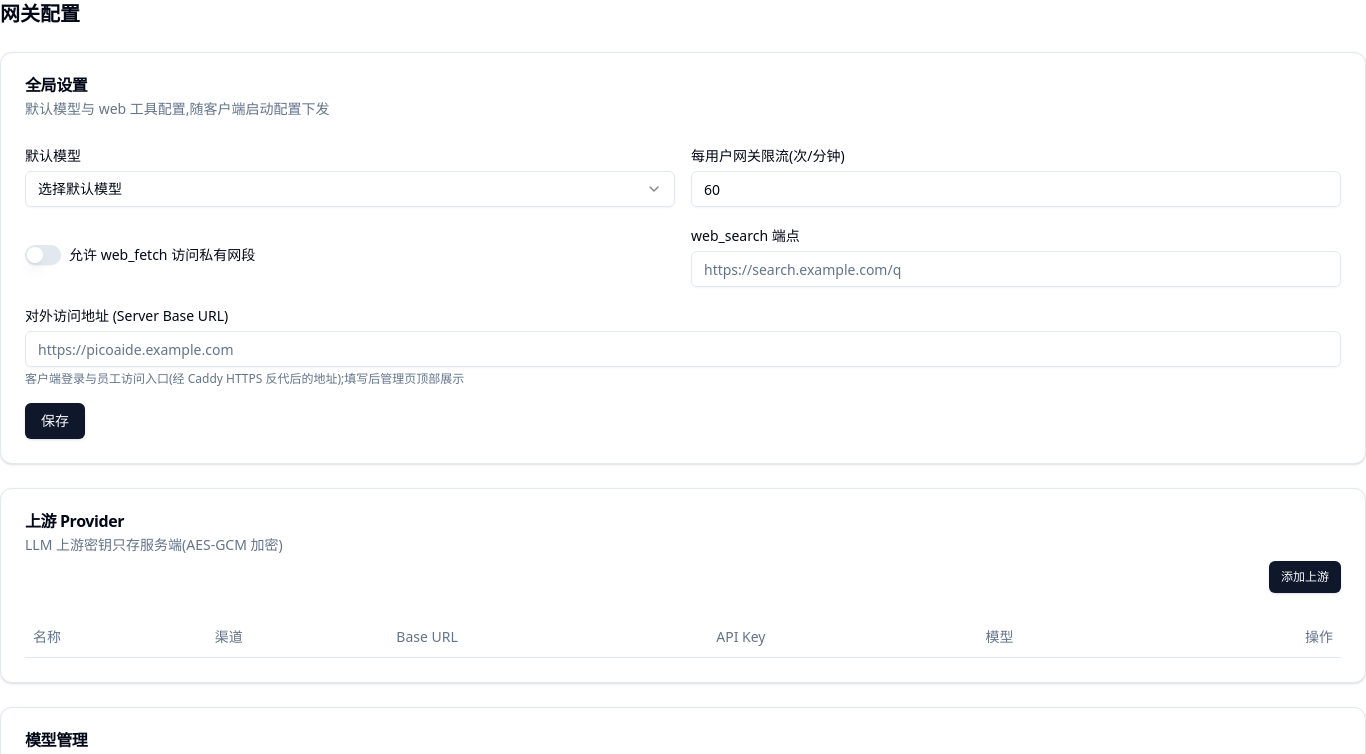
Test: Gateway 网关配置页 › 提交 sync.error 时提示可重试
Check: the text "全局设置" is shown, box [25,74,87,96]
Click the button "添加上游": click(1305, 577) [1269,561,1341,593]
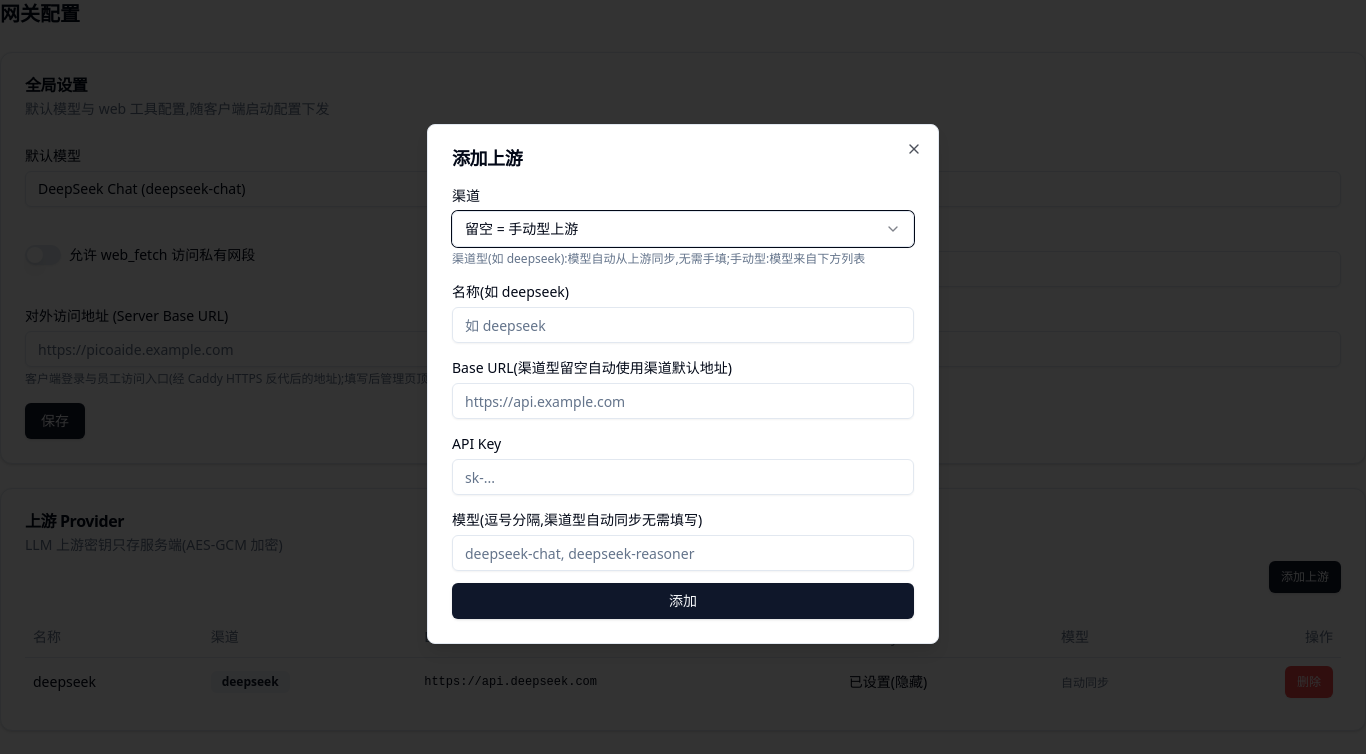
In the field with placeholder "如 deepseek": (683, 325) [452,307,914,343], type "deepseek2"
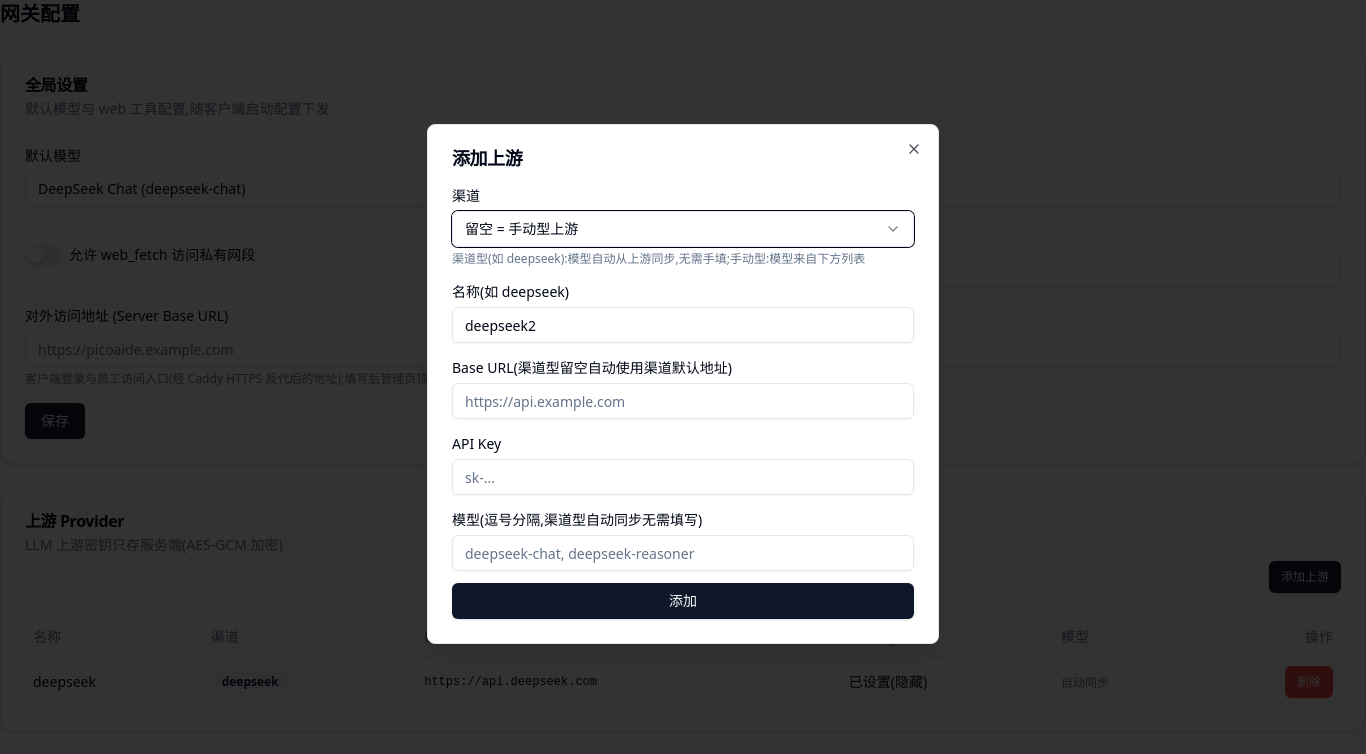
In the password field with placeholder "sk-...": (683, 477) [452,459,914,495], type "sk-x"
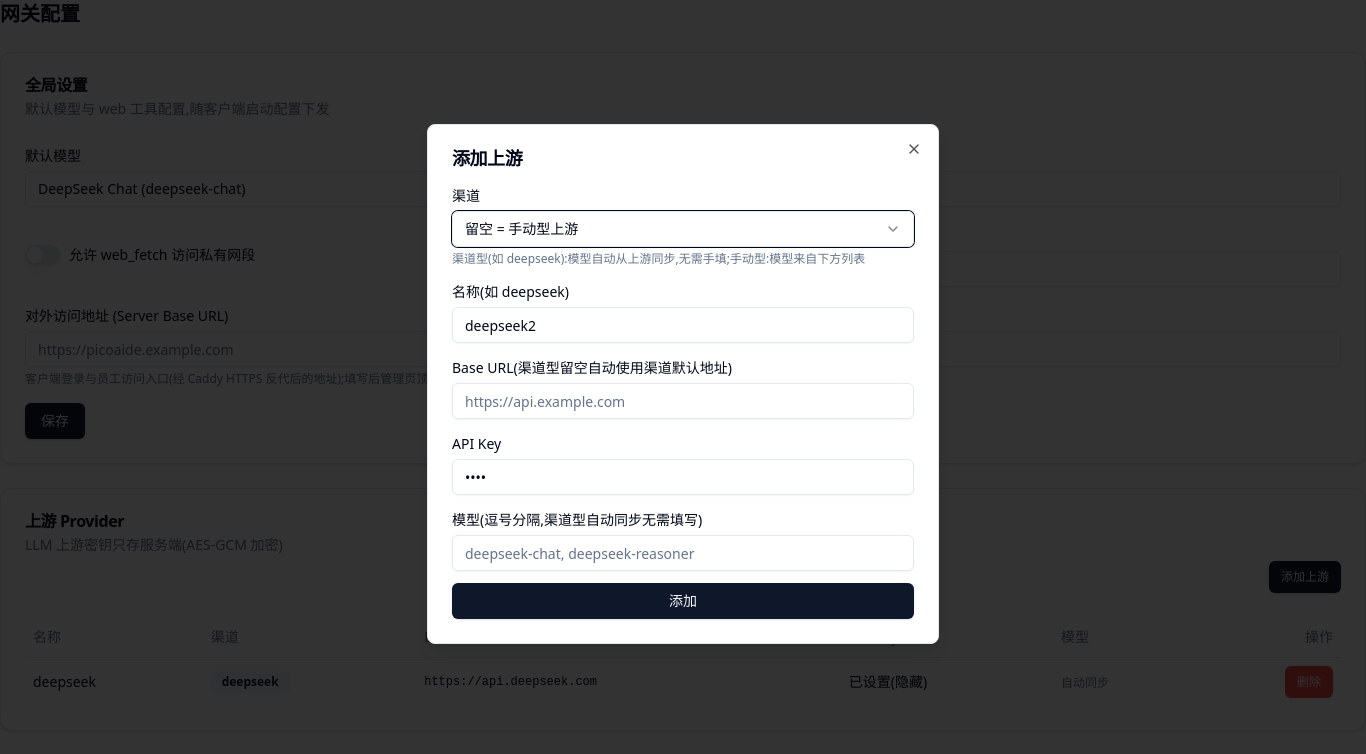
Click the button "添加": click(683, 601) [452,583,914,619]
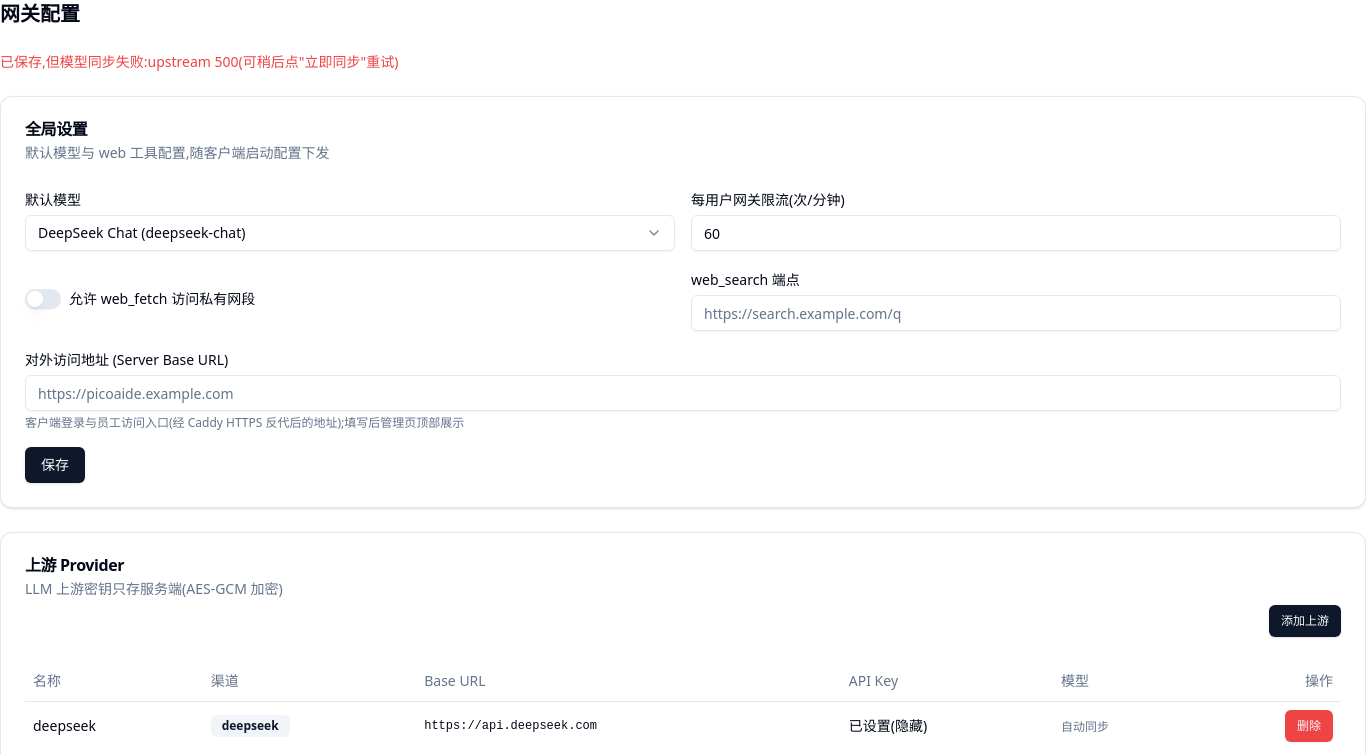
Check: the text "已保存,但模型同步失败:upstream 500(可稍后点\"立即同步\"重试)" is shown, box [0,52,398,71]
